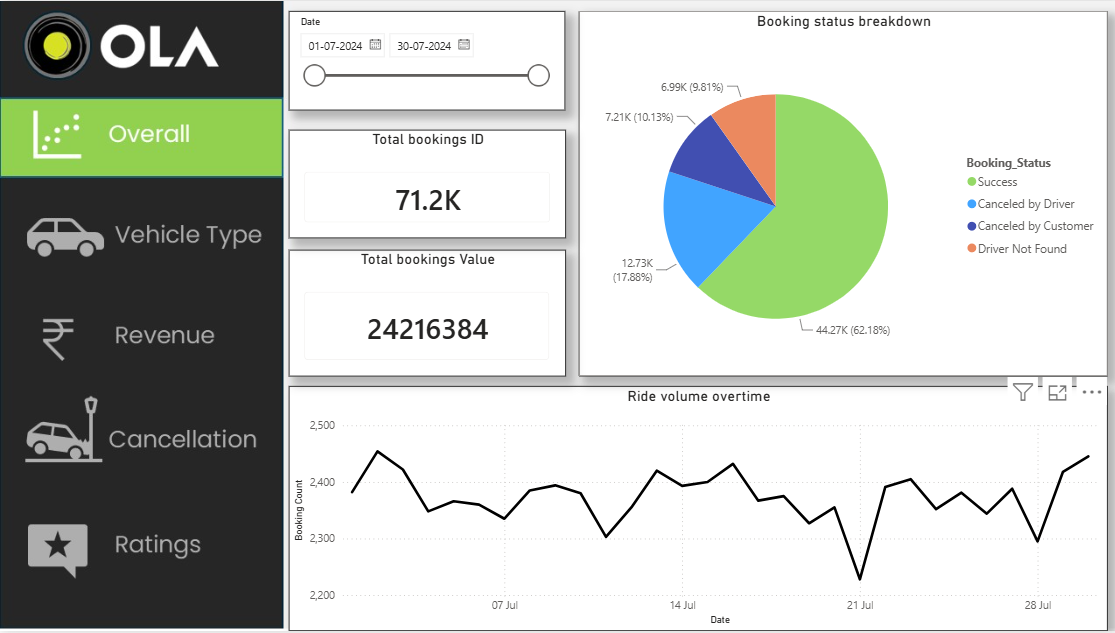

What the dashboard file says about the page in this screenshot:
{"tool":"powerbi","page":{"name":"Overall ","canvas":[1280,720],"ordinal":0},"visuals":[{"type":"actionButton","box":[0,225.1,321.7,92.3],"z":0},{"type":"actionButton","box":[0,336.6,321.7,92.3],"z":1000},{"type":"actionButton","box":[0,458.4,321.7,92.3],"z":2000},{"type":"actionButton","box":[0,576.7,321.7,92.3],"z":3000},{"type":"lineChart","title":"Ride volume overtime","fields":{"Y":["CountNonNull(Booking_csv.Booking_ID)"],"Category":["Booking_csv.Date"]},"box":[330,440,936.2,280],"z":4000},{"type":"pieChart","title":"Booking status breakdown","fields":{"Category":["Booking_csv.Booking_Status"],"Y":["CountNonNull(Booking_csv.Booking_Status)"]},"box":[661.2,11.2,605,417.5],"z":5000},{"type":"slicer","title":"Booking status breakdown","fields":{"Values":["Booking_csv.Date"]},"box":[330.6,10.9,316.1,113.4],"z":6000},{"type":"cardVisual","title":"Total bookings Value","fields":{"Data":["Sum(Booking_csv.Booking_Value)"]},"box":[330,283.8,316.7,145],"z":7000},{"type":"cardVisual","title":"Total bookings ID","fields":{"Data":["Count(Booking_csv.Booking_ID)"]},"box":[330,147.5,317.1,124.3],"z":8000}]}

Visuals, with their boxes in screenshot pixels (x1, y1, x2, y2), scaled from the page's 1280x720 canvas onto the 1115x633 screenshot:
actionButton: [0, 198, 280, 279]
actionButton: [0, 296, 280, 377]
actionButton: [0, 403, 280, 484]
actionButton: [0, 507, 280, 588]
"Ride volume overtime" lineChart: [287, 387, 1103, 632]
"Booking status breakdown" pieChart: [576, 10, 1103, 377]
"Booking status breakdown" slicer: [288, 10, 563, 109]
"Total bookings Value" cardVisual: [287, 250, 563, 377]
"Total bookings ID" cardVisual: [287, 130, 564, 239]
